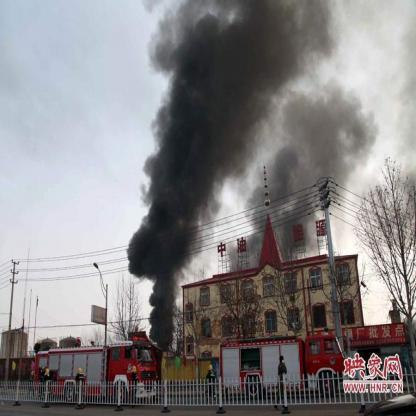smoke: (201, 1, 258, 150), (284, 93, 368, 174), (260, 4, 336, 87), (144, 152, 224, 209), (129, 216, 201, 270), (156, 68, 199, 148), (151, 1, 194, 70), (146, 275, 178, 346), (249, 166, 294, 210)
